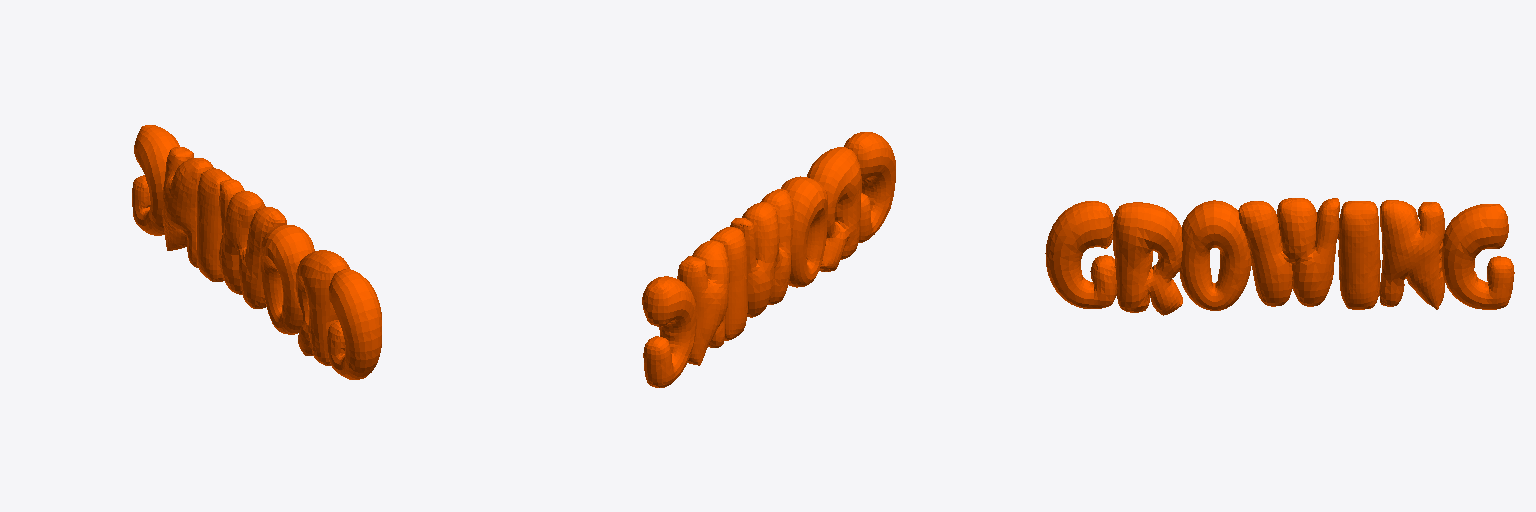
The model's file is 01_growing.obj.
3 views of the same model, side by side, from view 1: azimuth 30°, elevation 25°; view 2: azimuth 150°, elevation 25°; view 3: azimuth 270°, elevation 25° (orthographic).
Parts seen in each view (by area): view 1: _growing:growing; view 2: _growing:growing; view 3: _growing:growing.
Boxes of the visible parts, box(x1,y1,x2,y2) form: _growing:growing: box(132, 125, 381, 379); _growing:growing: box(642, 132, 895, 387); _growing:growing: box(1045, 198, 1514, 315).
Size of the model in its own units: 0.1556 by 0.3763 by 1.41.